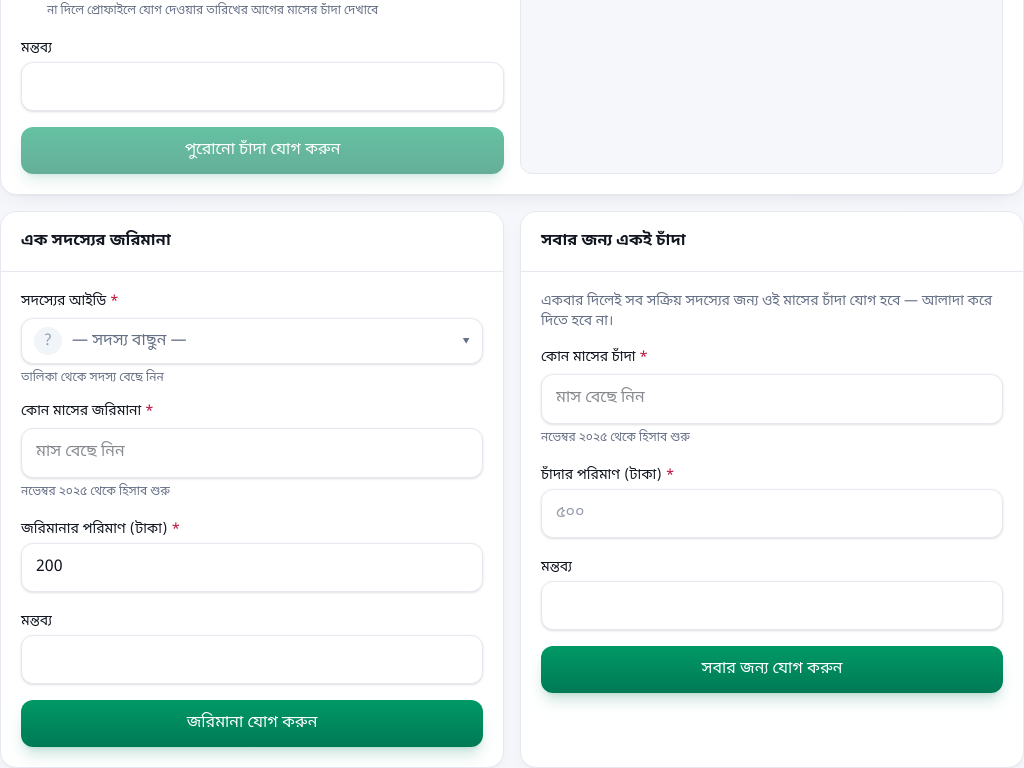
Scenario: historical import forms › reports a server refusal as an error toast and keeps the form filled
The image size is (1024, 768).
(page scrolled)
Click the field labelled "কোন মাসের চাঁদা *": (772, 399) [541, 374, 1003, 424]
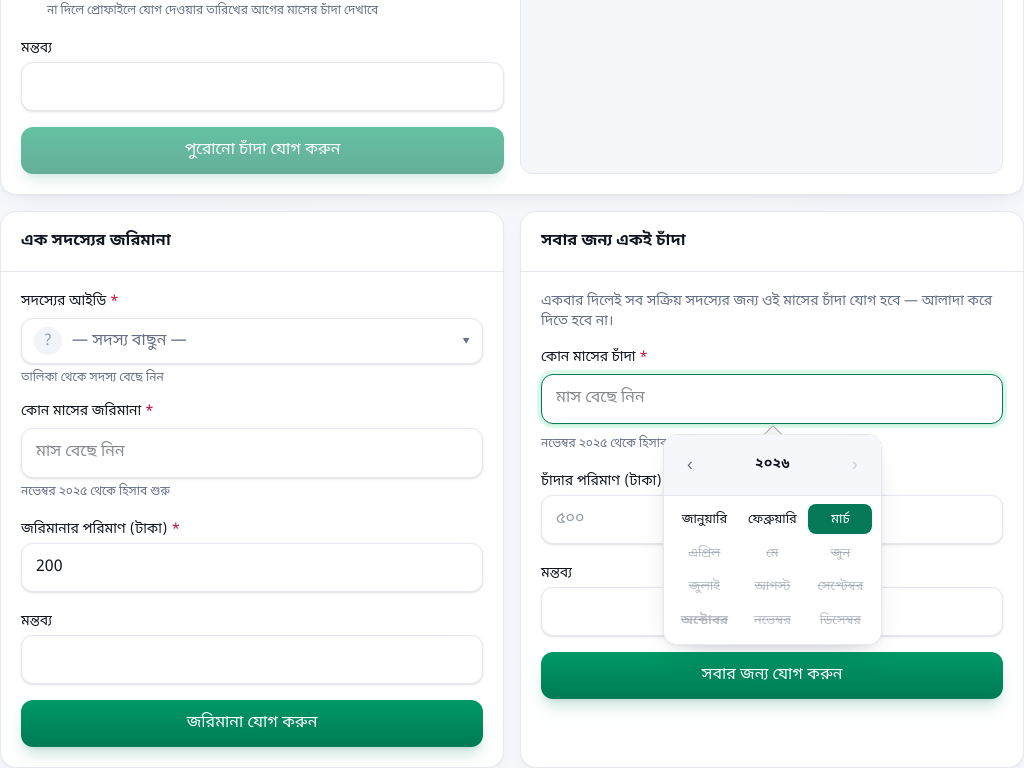
Click the option "ফেব্রুয়ারি": (772, 519) [748, 511, 797, 528]
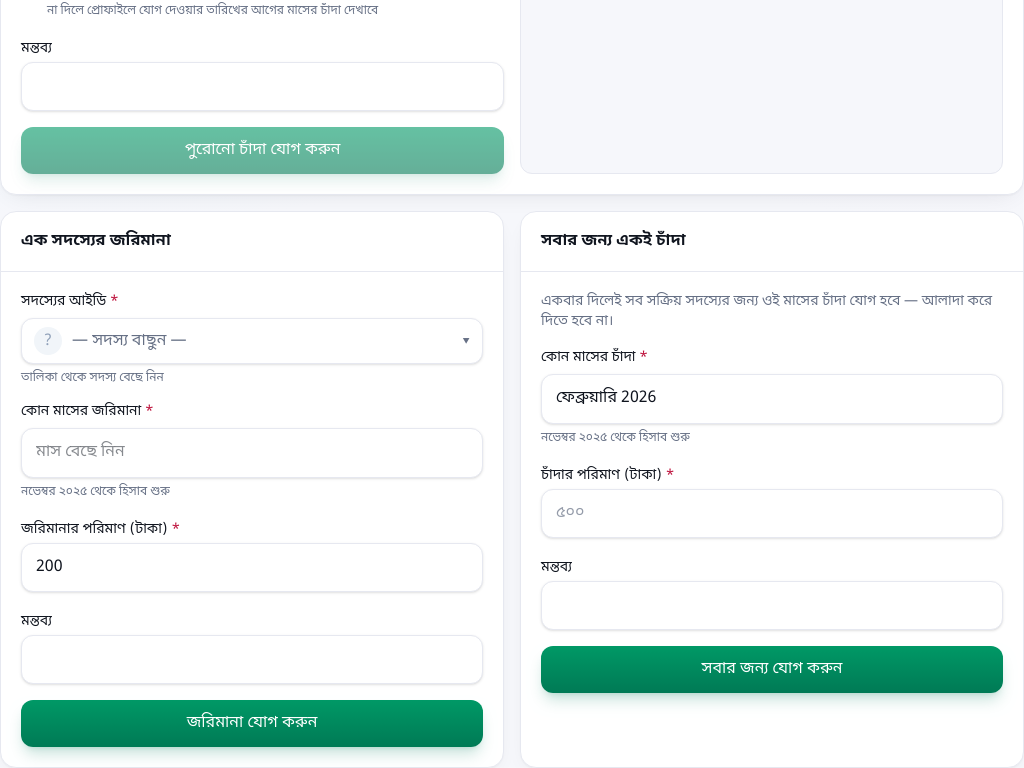
In the field labelled "চাঁদার পরিমাণ (টাকা) *": (772, 513) [541, 489, 1003, 538], type "500"
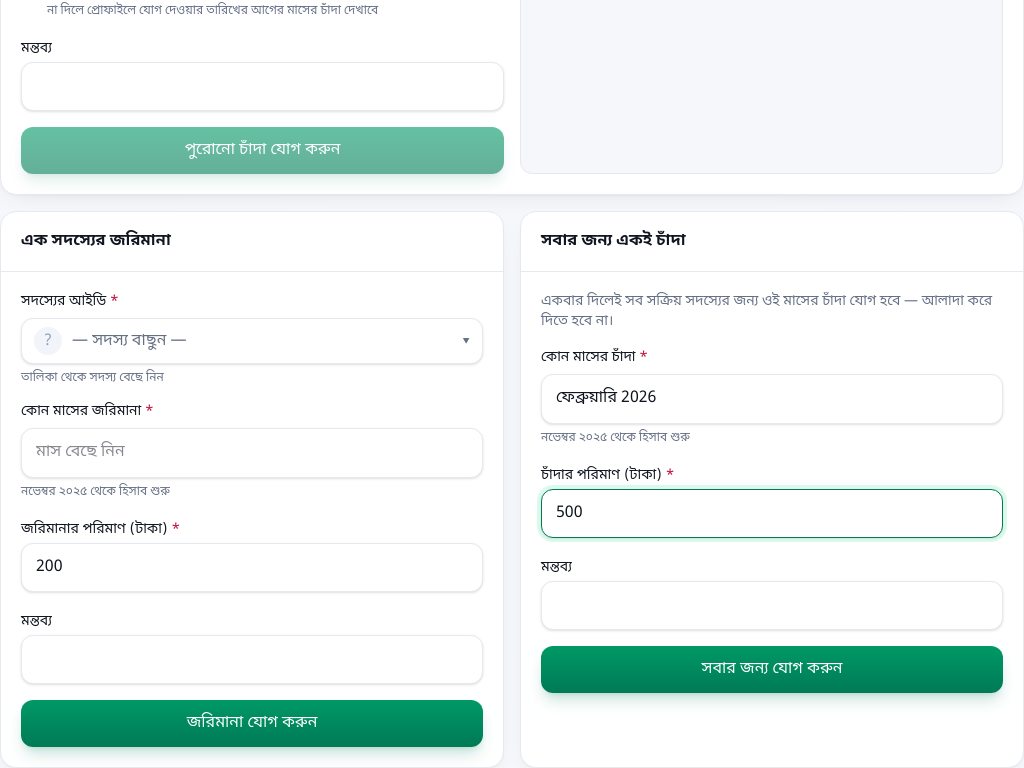
Click the button "সবার জন্য যোগ করুন": (772, 670) [541, 646, 1003, 694]
(page scrolled)
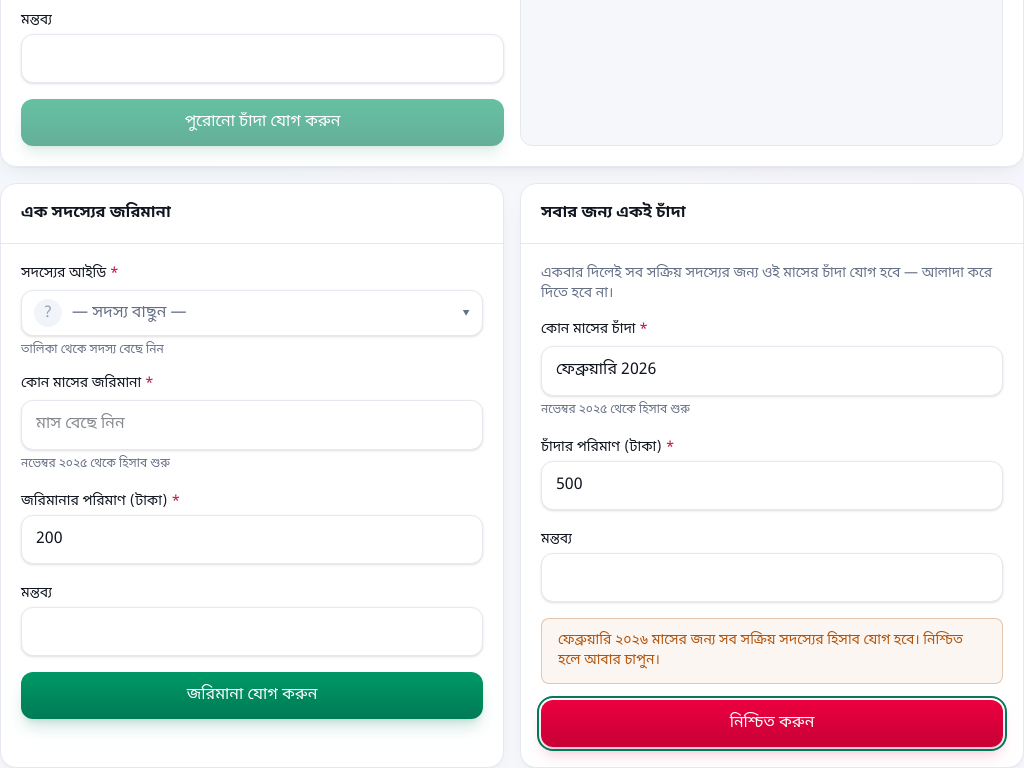
Click the button "নিশ্চিত করুন": (772, 724) [541, 700, 1003, 748]
(page scrolled)
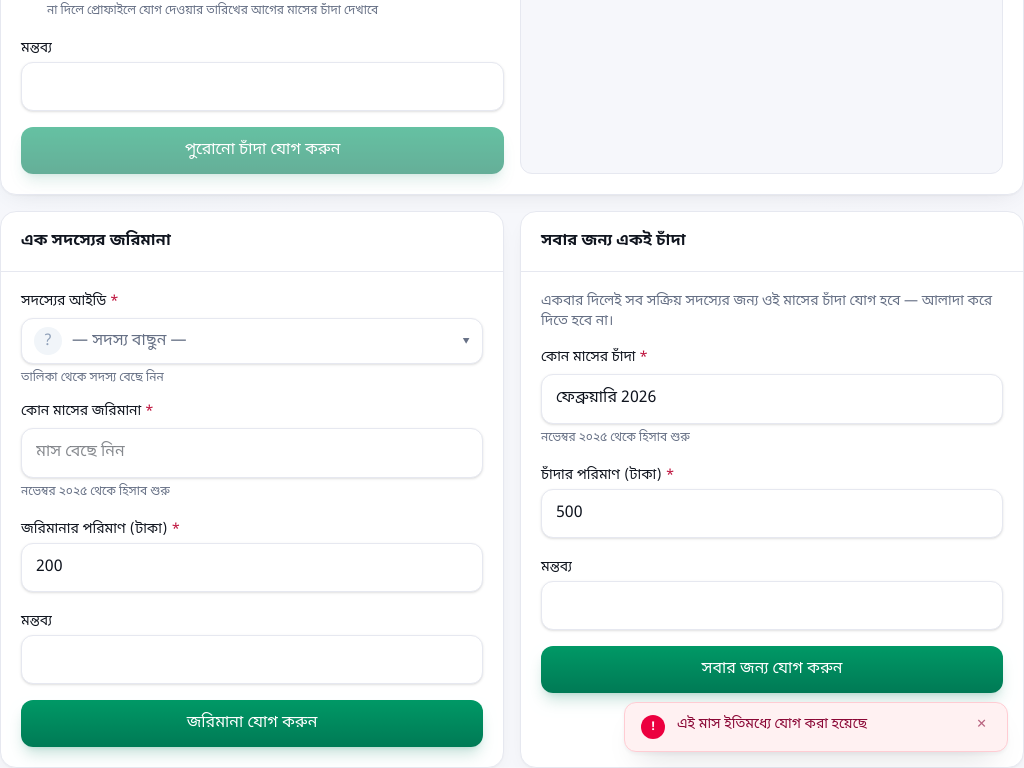
Result: the text "এই মাস ইতিমধ্যে যোগ করা হয়েছে" is shown at [677, 715, 867, 734]
